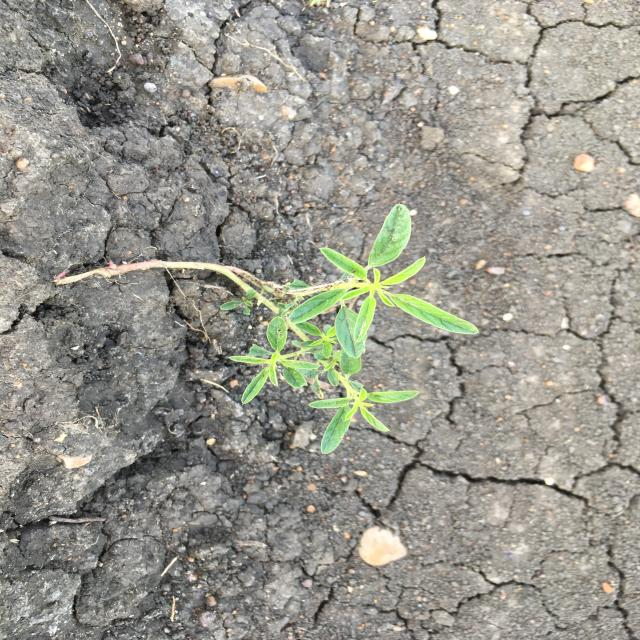Waterhemp: (220, 201, 483, 458)
